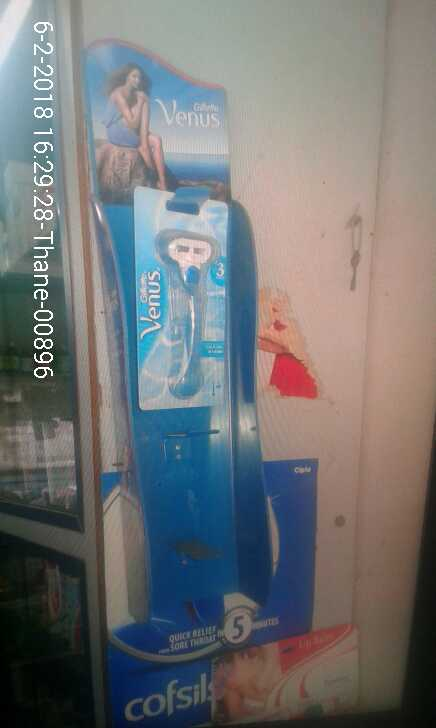beauty: (132, 185, 225, 410)
